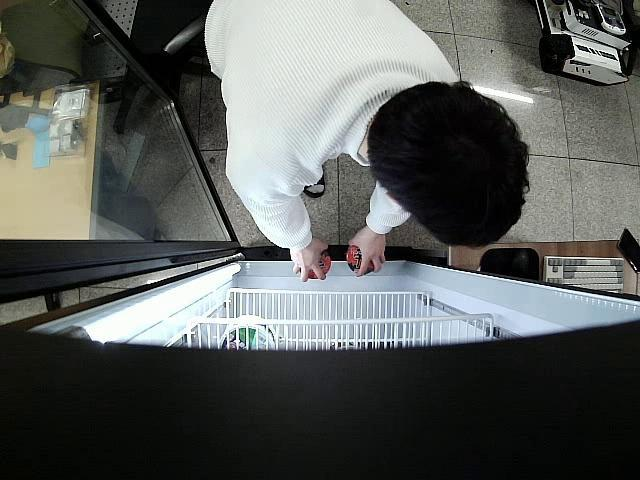02_shinRamen_S: (346, 243, 377, 274), (300, 250, 332, 278)
